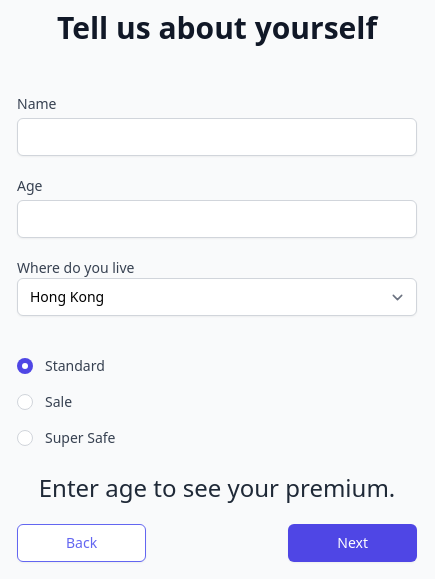
Test: Start Page Spec › Complete form inputs › Should show the correct premium for US
Type "John Doe" into the field named "name".
click(217, 137); type("John Doe")  # box [17, 118, 417, 156]
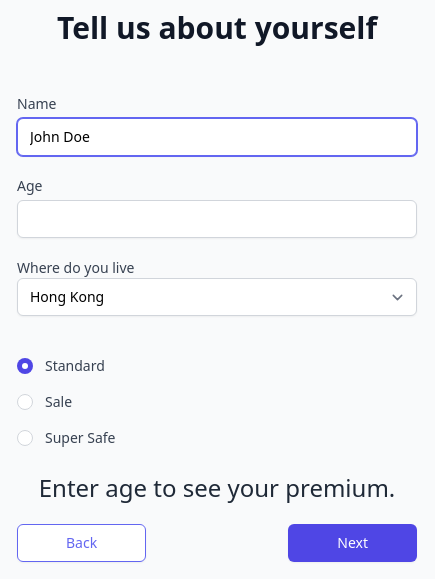
Type "10" into the number field named "age".
click(217, 219); type("10")  # box [17, 200, 417, 238]
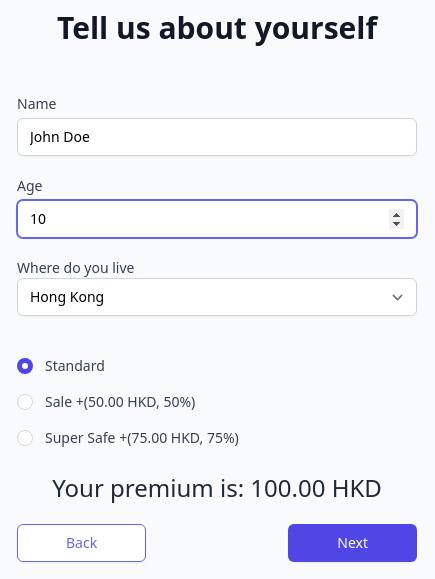
Select "United States of America" in the dropdown named "country" at (217, 297), box [17, 278, 417, 316]
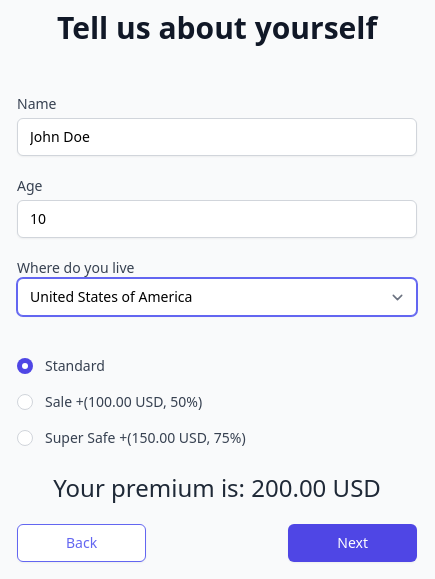
Now the heading "Your premium is: 200.00 USD" is shown, box [53, 471, 381, 504]
